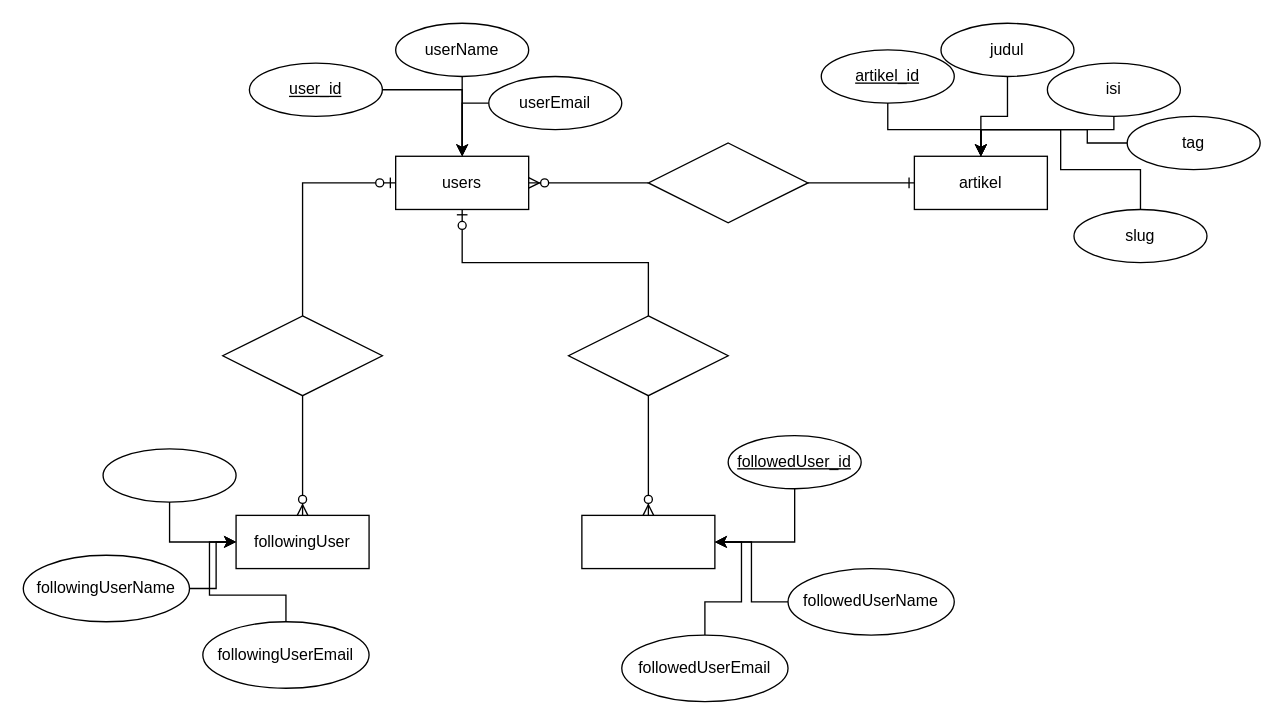
Image size: 1283x725. Some labels were removed from this diagram. Each missing label, with the box of its shape:
diikuti: (567, 315, 728, 396)
followedUser: (581, 514, 715, 569)
followingUser_id: (102, 448, 236, 502)
melakukan: (221, 315, 382, 396)
membuat: (647, 142, 808, 223)
